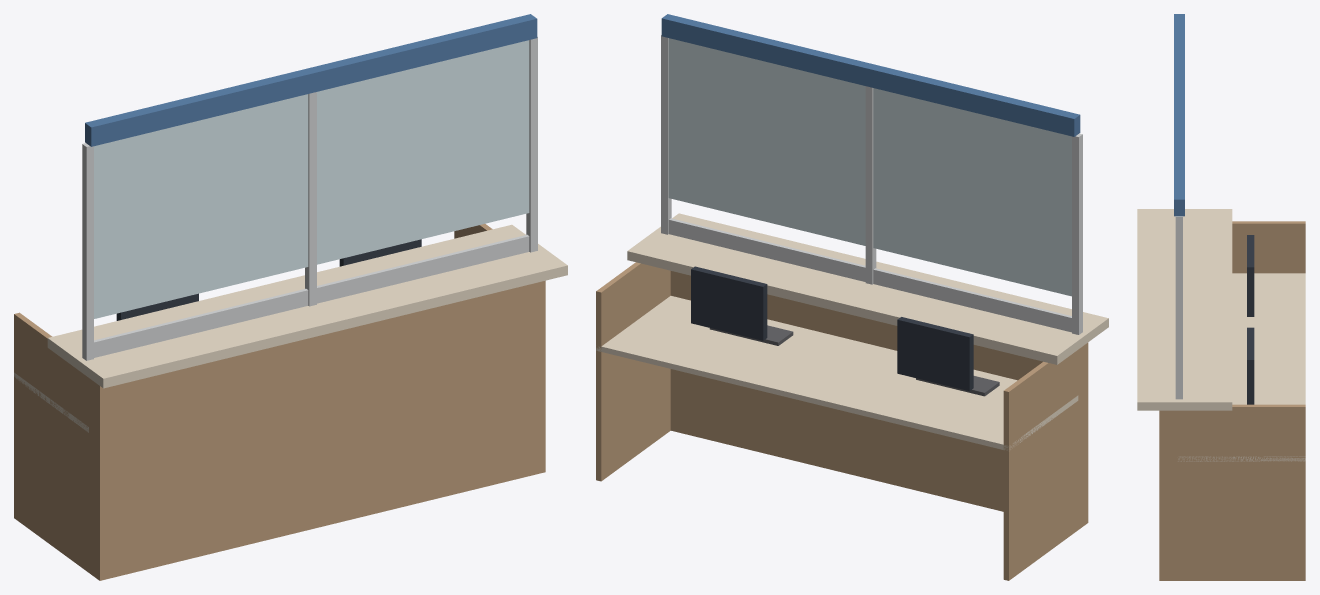
The model's file is Bank_Counter.fbx.
The picture shows the model from 3 angles, left to right: view 1: azimuth 30°, elevation 25°; view 2: azimuth 150°, elevation 25°; view 3: azimuth 270°, elevation 25°; orthographic projection. The views are drawn at different scales.
Parts seen in each view (by area): view 1: Bank_Counter; view 2: Bank_Counter; view 3: Bank_Counter.
Boxes of the visible parts, x1=… form: Bank_Counter: x1=14, y1=14, x2=567, y2=580; Bank_Counter: x1=596, y1=14, x2=1108, y2=580; Bank_Counter: x1=1137, y1=14, x2=1305, y2=580.
Bounding box in the file's own units: 2.5 × 2.3 × 0.92.
